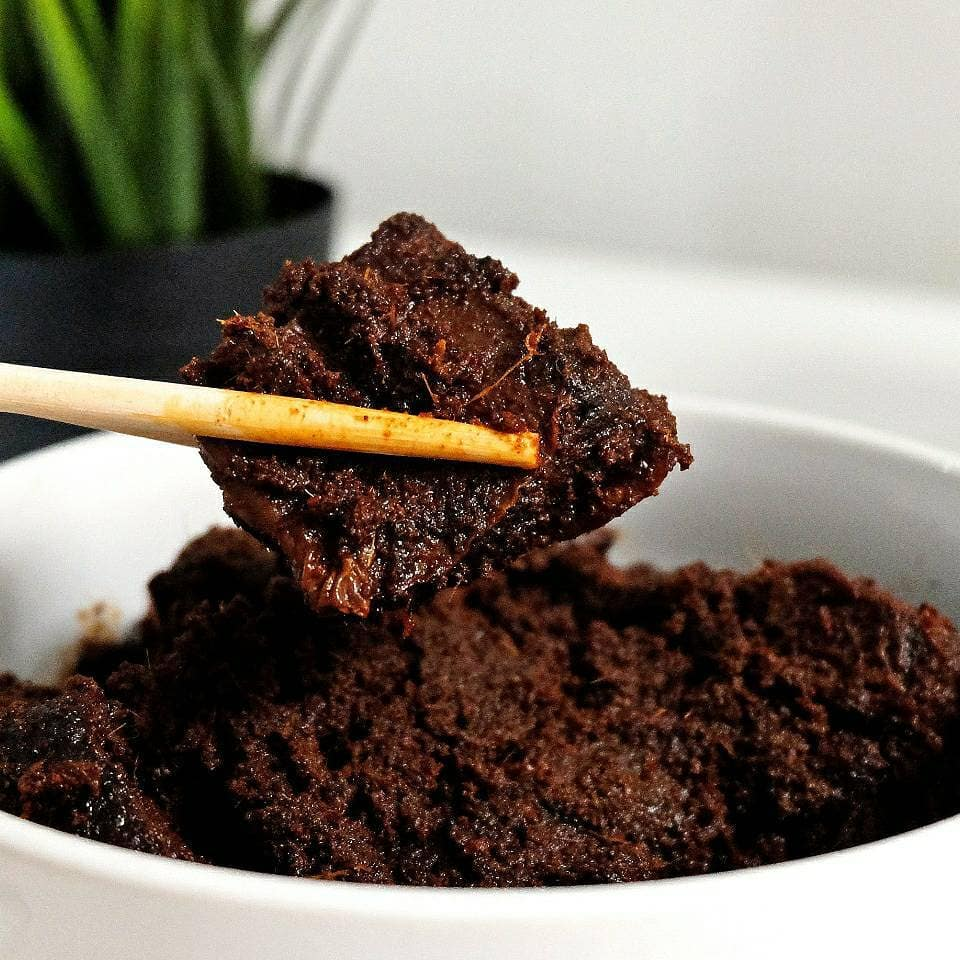rendang: (29, 184, 960, 908)
